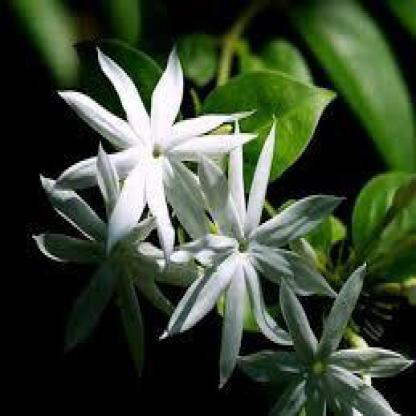Melati: (68, 46, 218, 250), (197, 145, 309, 336), (268, 282, 391, 413)
